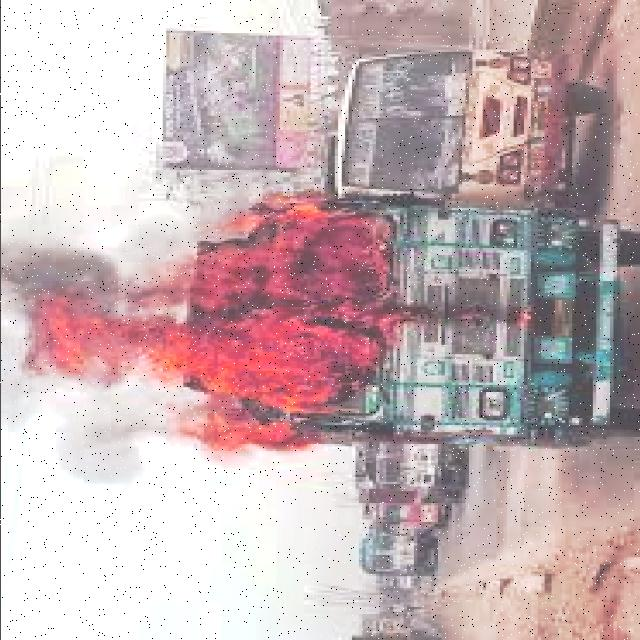api: (39, 195, 407, 467)
